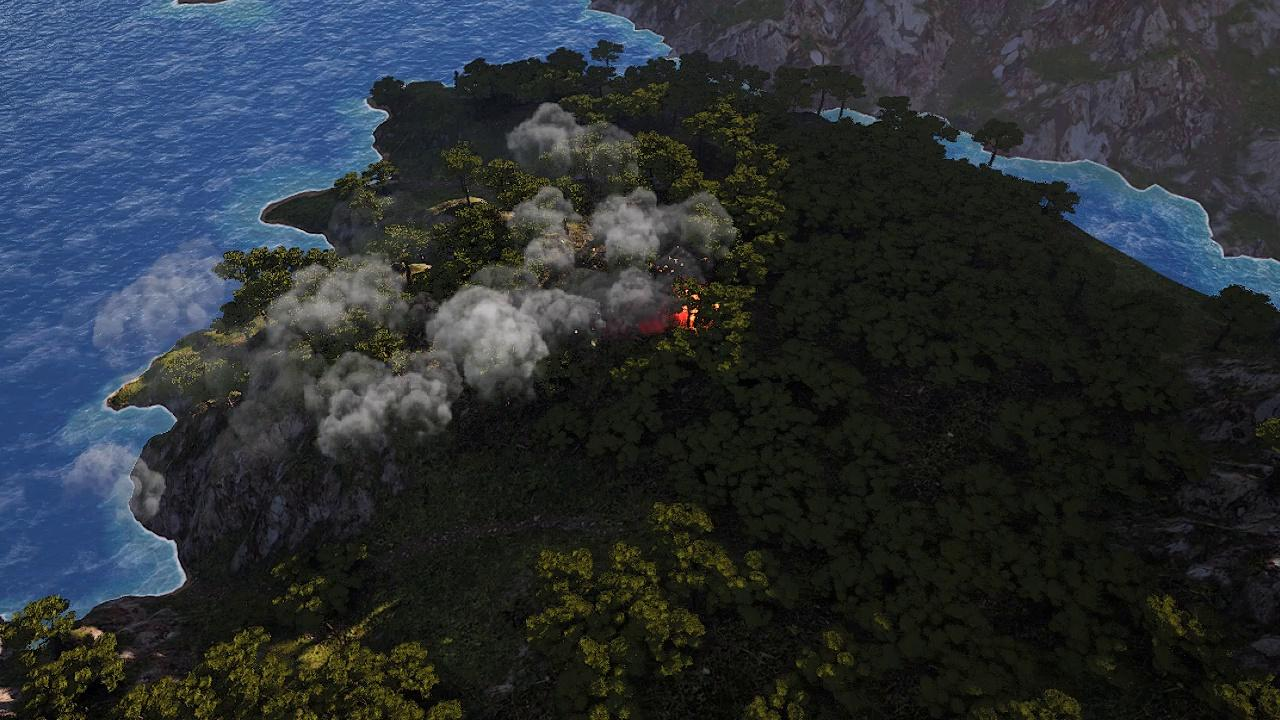fire: (678, 305, 701, 331)
smoke: (92, 189, 733, 466), (506, 103, 641, 179), (56, 436, 161, 525)
